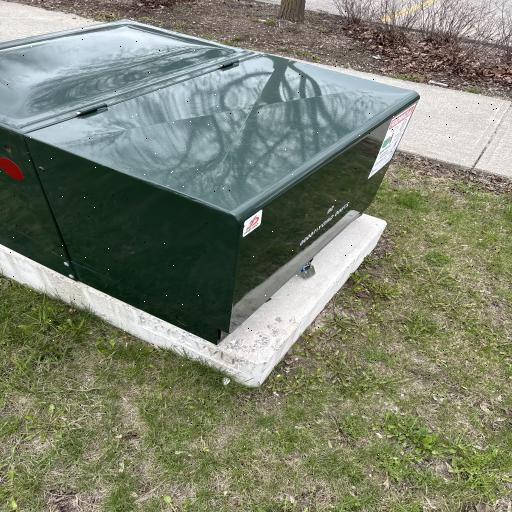Electrical Box: (2, 20, 420, 346)
